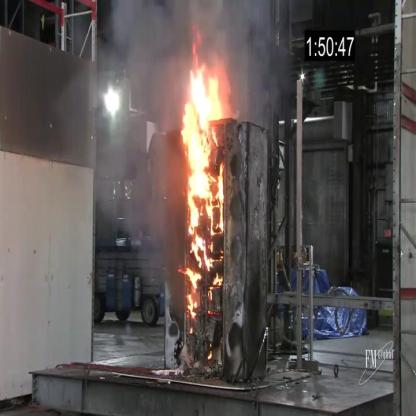fire: (178, 37, 226, 323)
